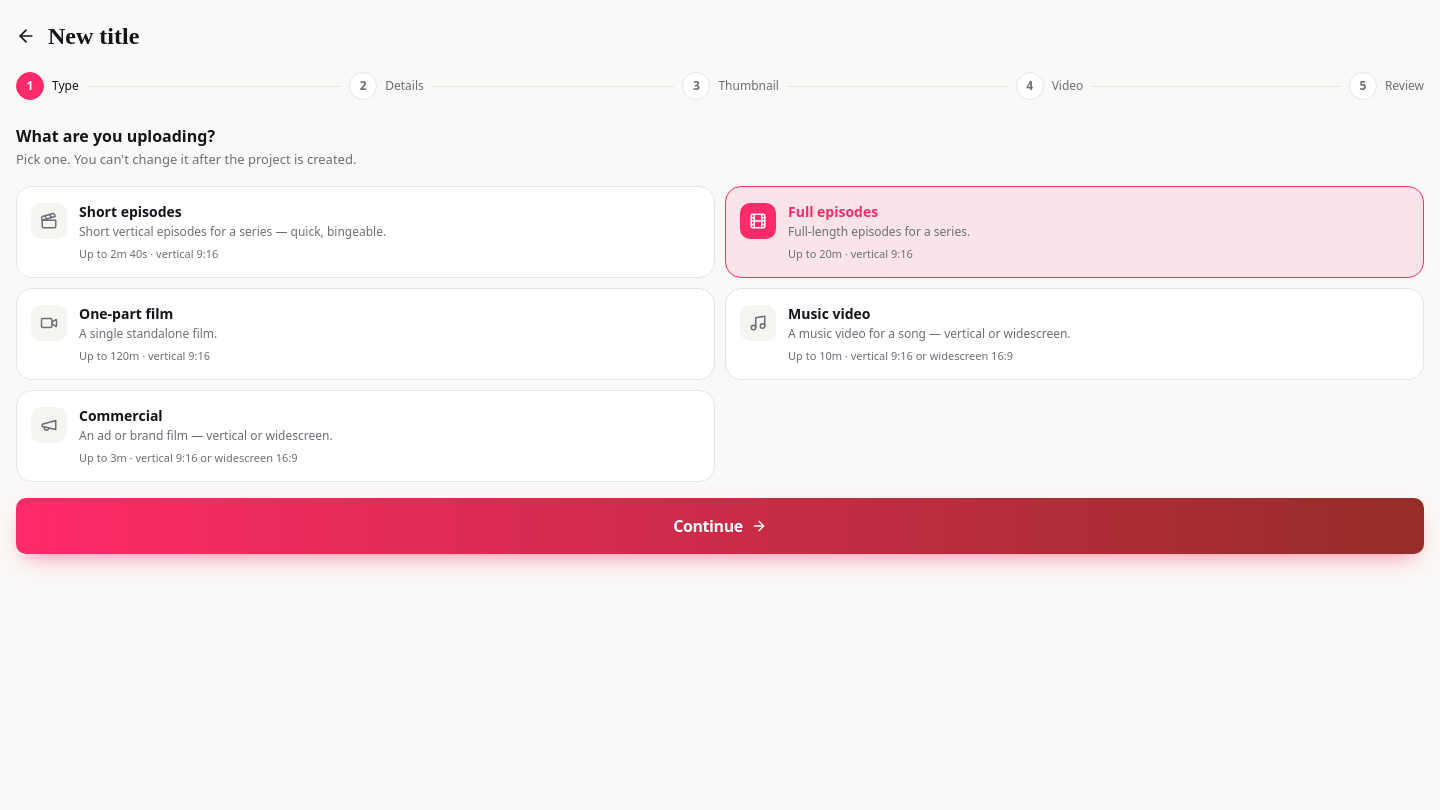
Test: failures are visible and recoverable (these used to be silent) › a database error while saving details is shown next to the form
Click the button "Continue". click: (720, 526)
box: [16,498,1424,554]
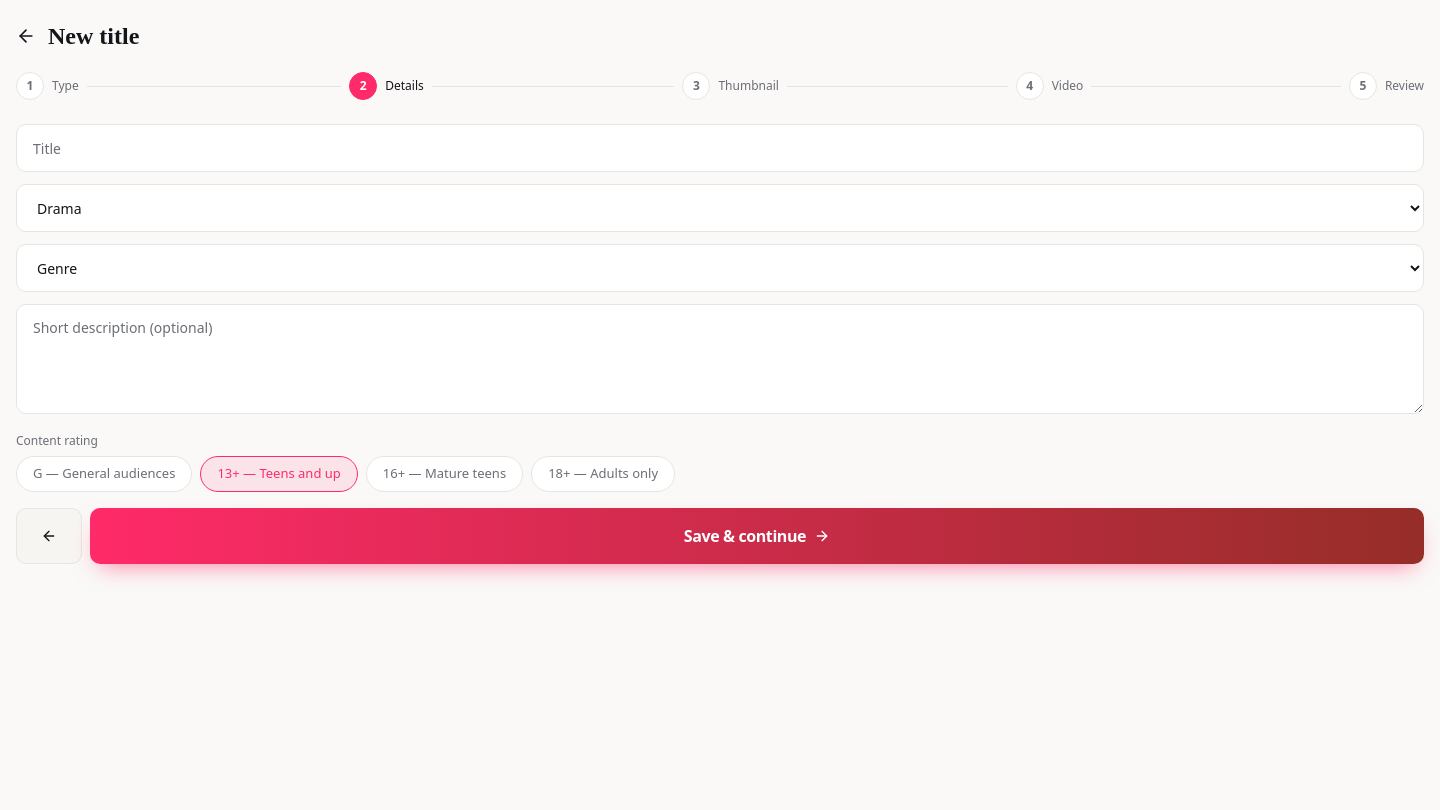
Type "Dup" into the field with placeholder "Title". click: (720, 148)
box: [16,124,1424,172]
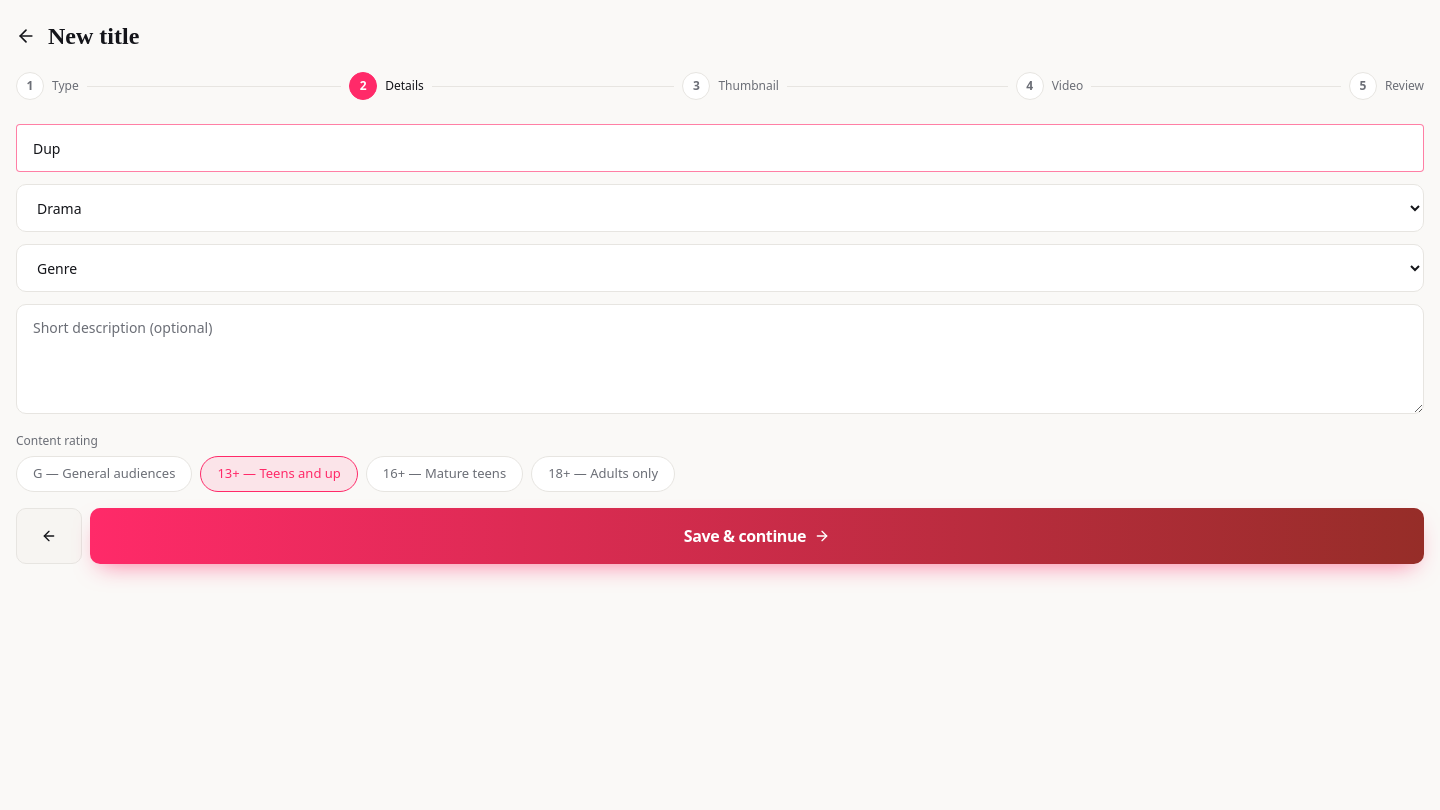
Select "Drama" in the dropdown named "Category". click: (720, 208)
box: [16,184,1424,232]
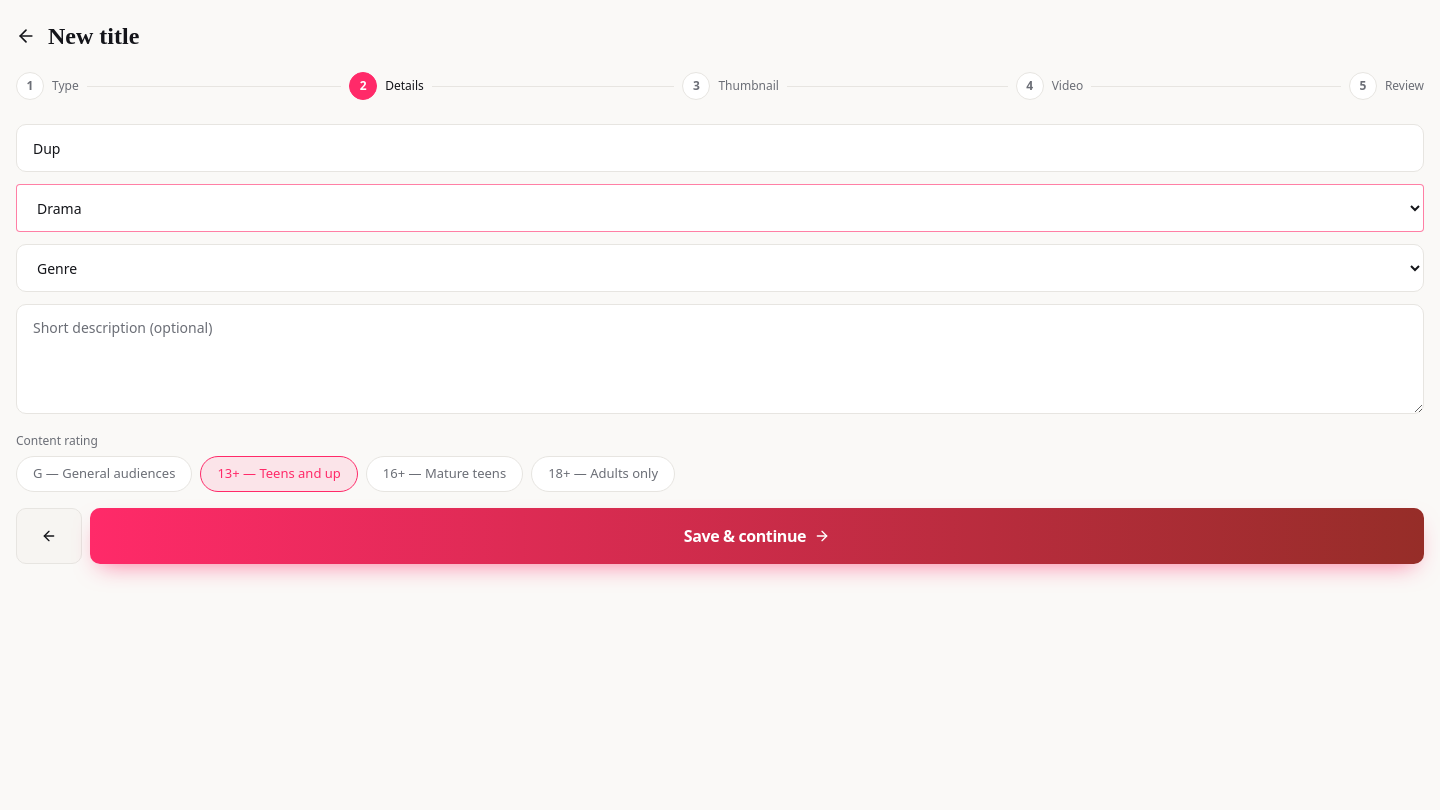
Select "Drama" in the dropdown named "Genre". click: (720, 268)
box: [16,244,1424,292]
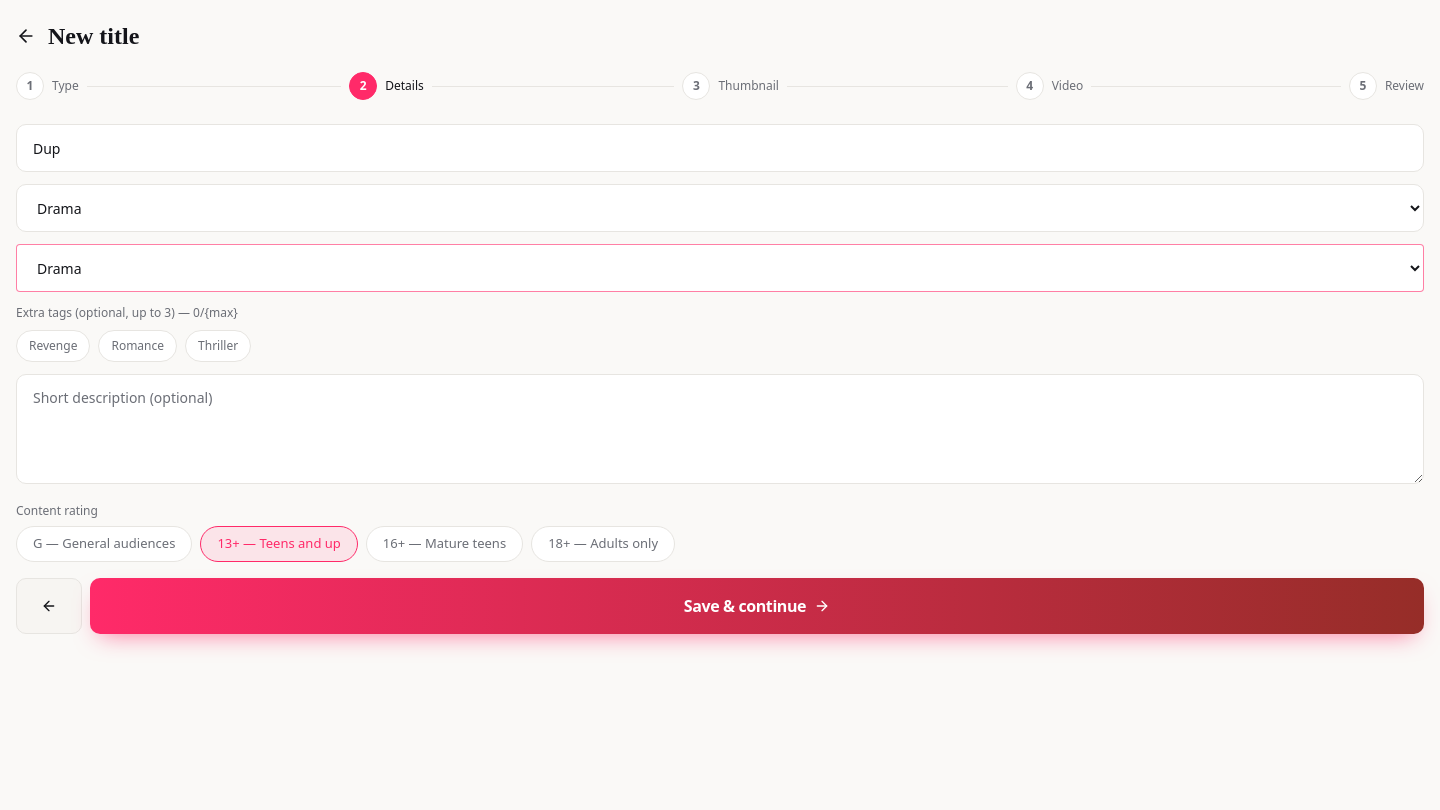
Type "A story." into the text box with placeholder "Short description (optional)". click: (720, 429)
box: [16,374,1424,484]
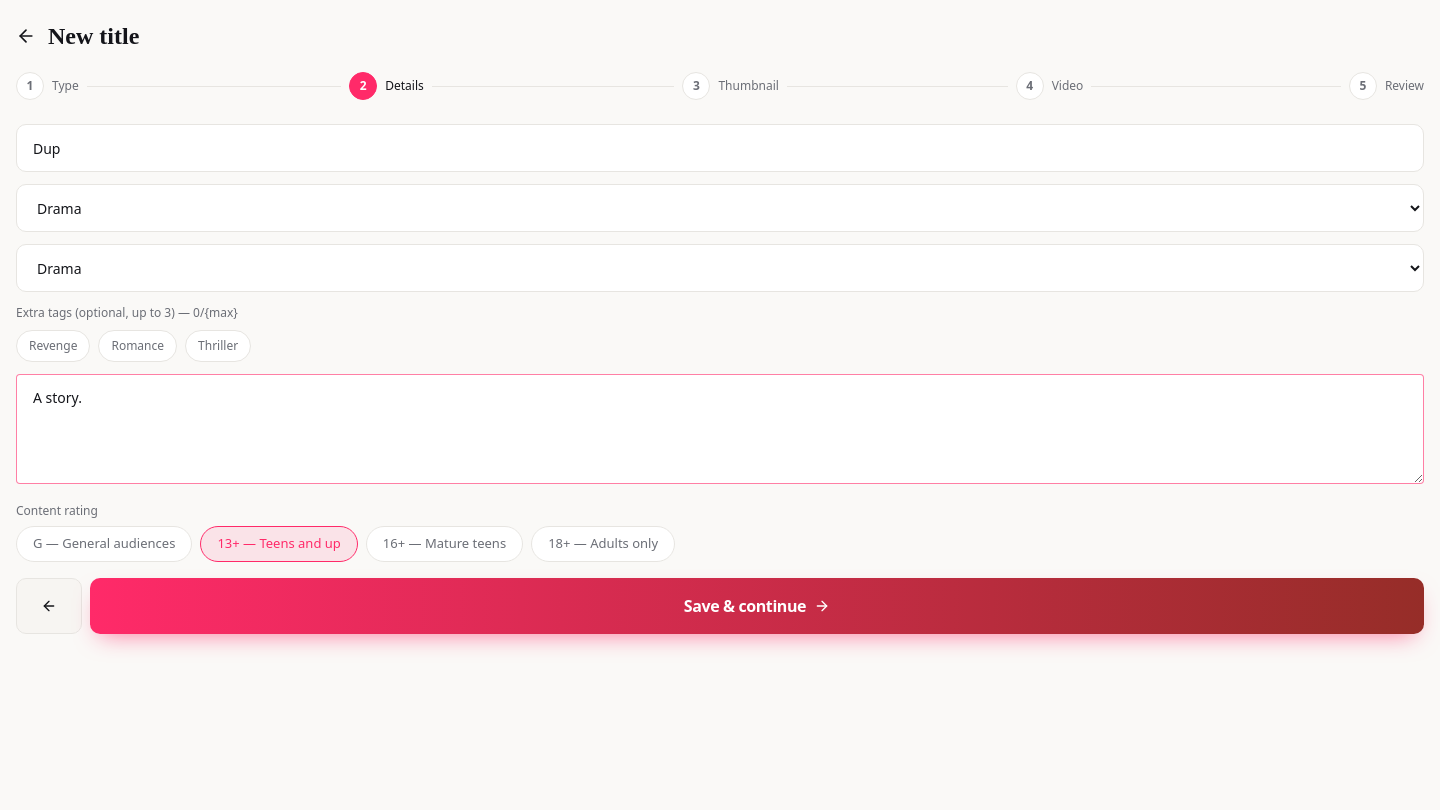
Click the button "Save & continue". click: (757, 606)
box: [90,578,1424,634]
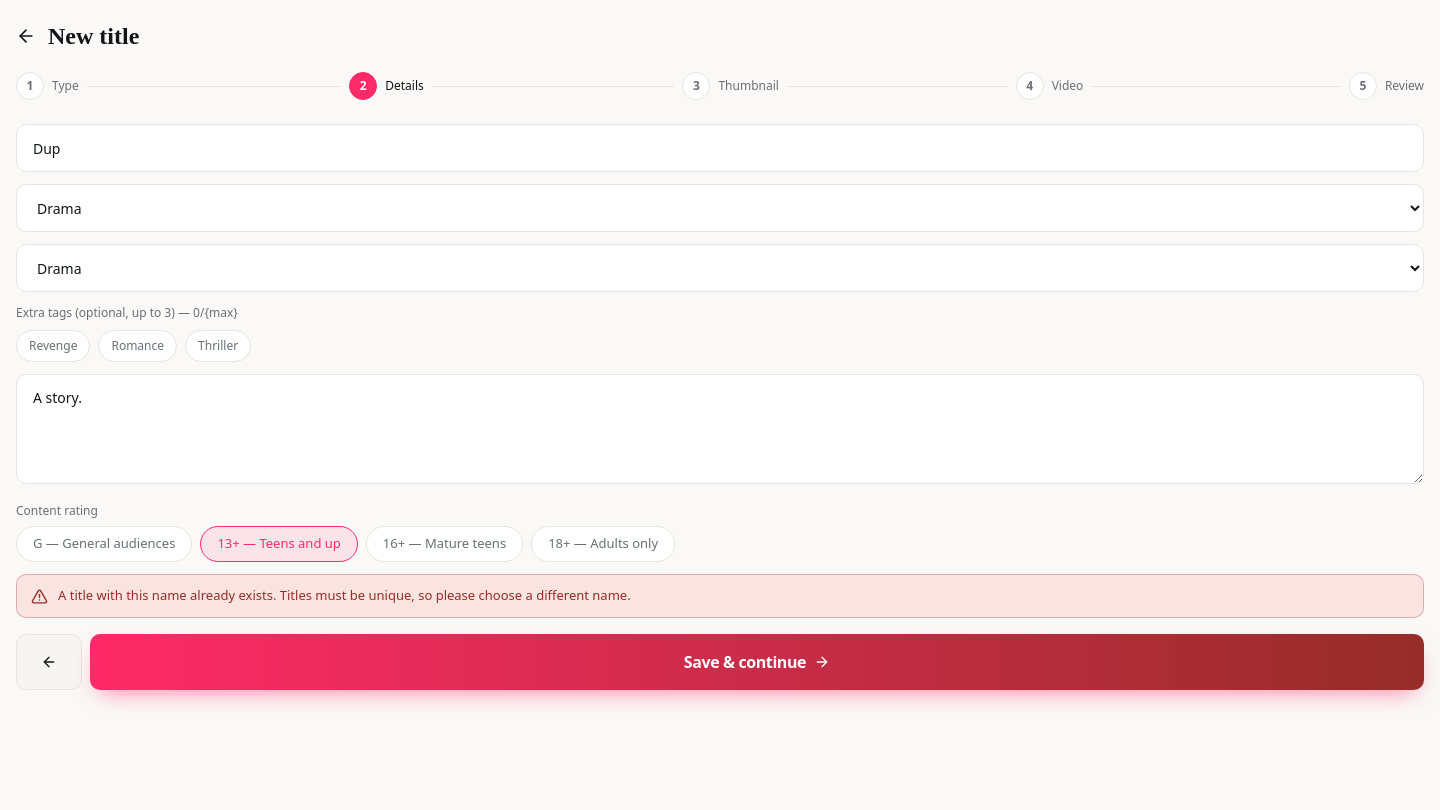
Now the message shows "A title with this name already exists. Titles must be unique, so please choose a different name.", box [58,586,631,604]
